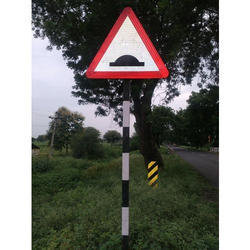speed-breaker: (88, 9, 166, 77)
